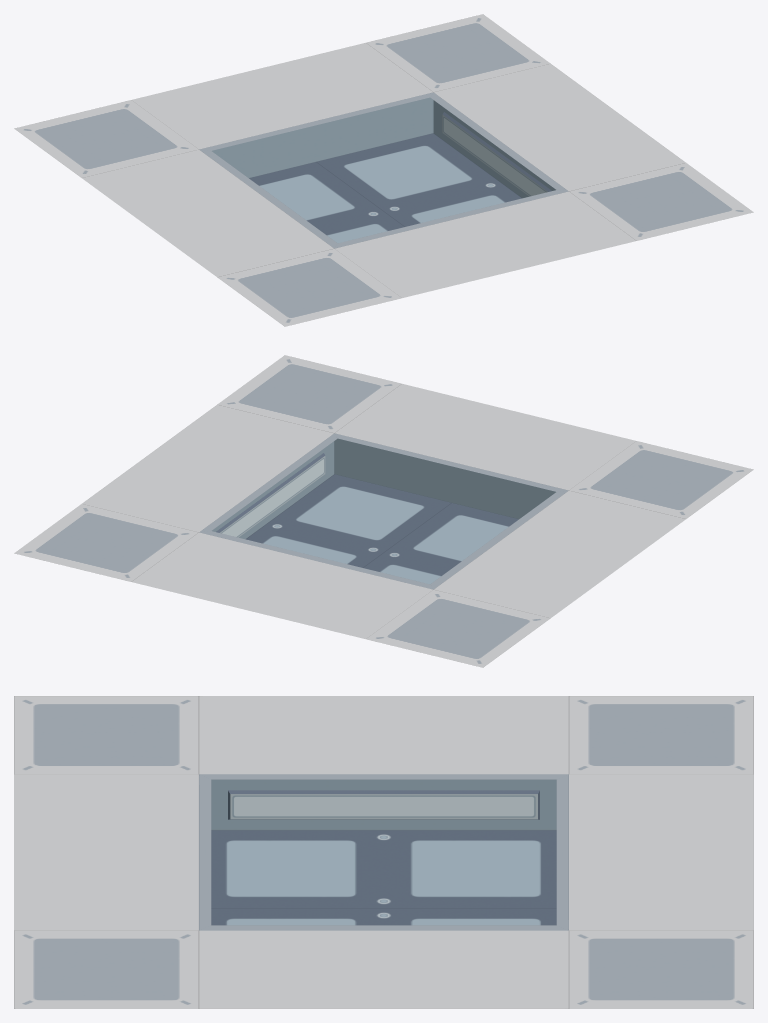
The model's file is Floor_02_B.FBX.
The picture shows the model from 3 angles, top to bottom: view 1: azimuth 30°, elevation 25°; view 2: azimuth 150°, elevation 25°; view 3: azimuth 270°, elevation 25°; orthographic projection. The views are drawn at different scales.
Parts seen in each view (by area): view 1: Floor_02_B; view 2: Floor_02_B; view 3: Floor_02_B.
Boxes of the visible parts, box(x1,y1,x2,y2) form: Floor_02_B: box(14, 14, 753, 326); Floor_02_B: box(14, 355, 753, 667); Floor_02_B: box(14, 696, 753, 1008).
Size of the model in its own units: 6 by 0.5 by 6.
